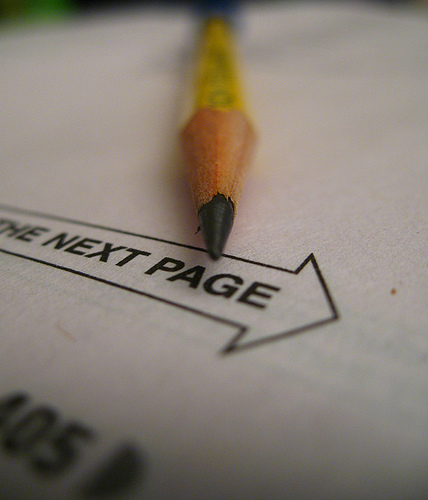pen_tip: (162, 93, 264, 274)
